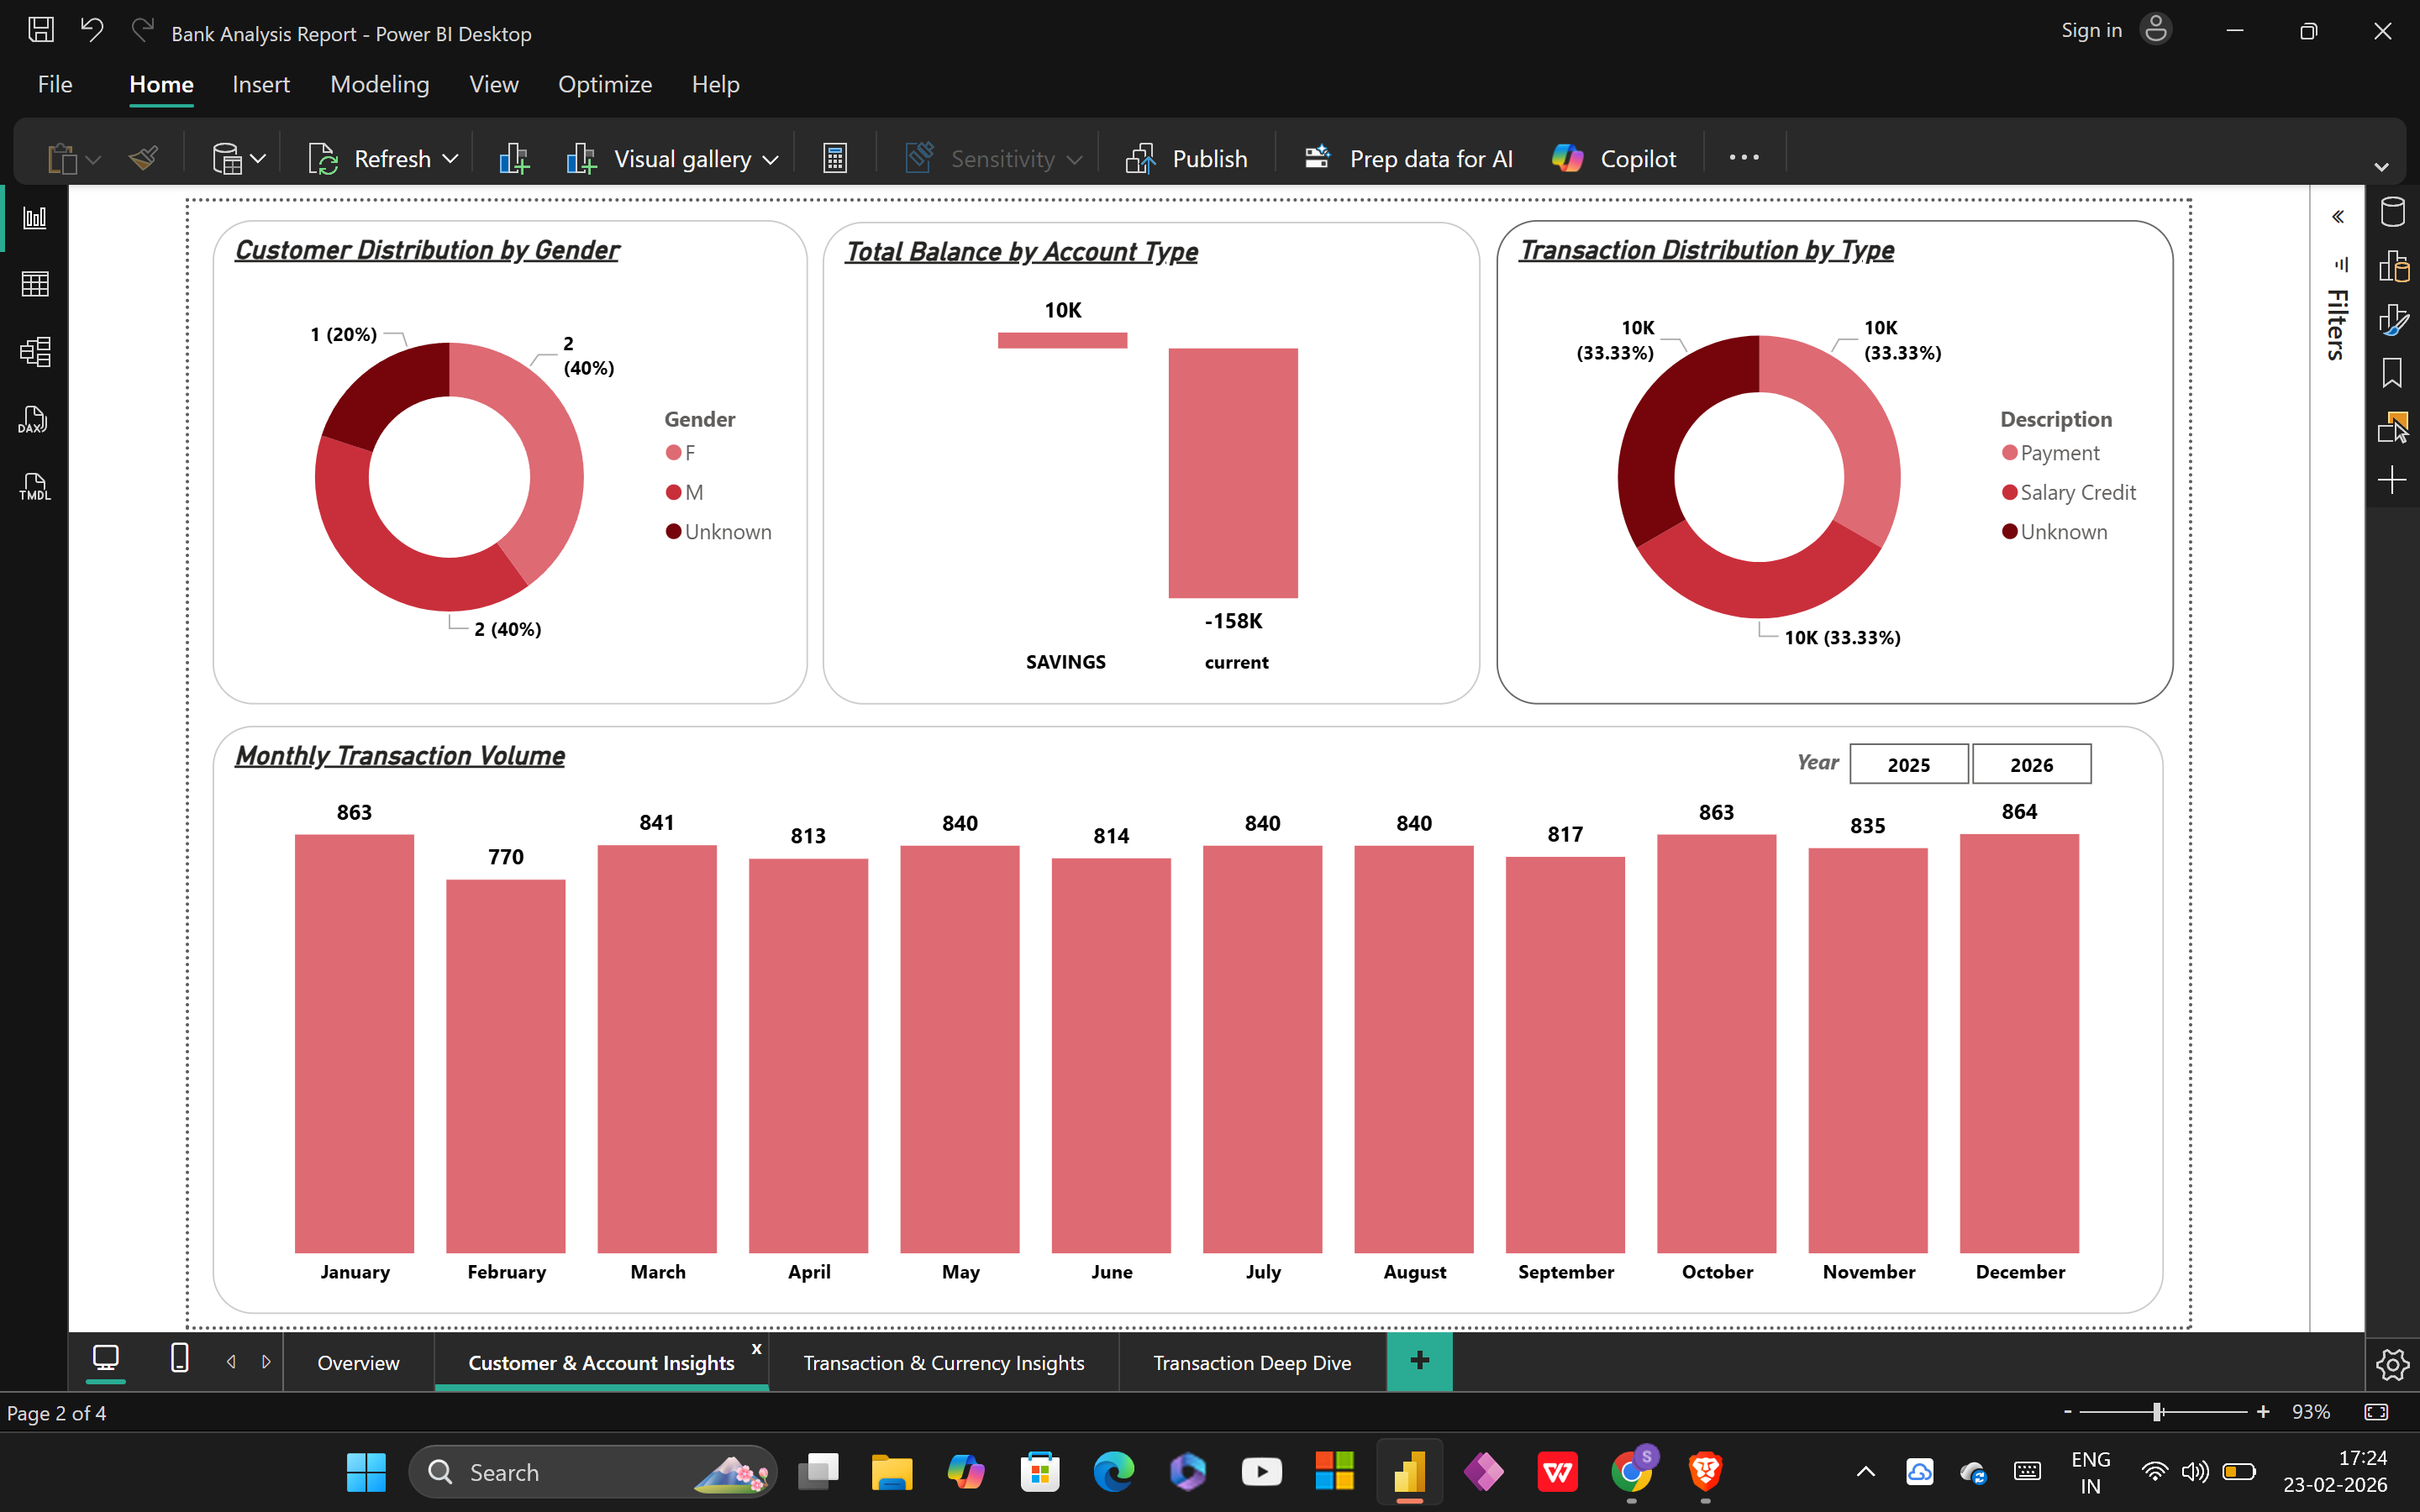

The dashboard page shown, as its layout file describes it:
{"tool":"powerbi","page":{"name":"Customer & Account Insights","canvas":[1280,720],"ordinal":1},"visuals":[{"type":"donutChart","title":"Customer Distribution by Gender","fields":{"Category":["Customers.Gender"],"Y":["Count(Customers.CustomerID)"]},"box":[15.6,12.2,381.1,310],"z":0},{"type":"columnChart","title":"Total Balance by Account Type","fields":{"Category":["Accounts.Type"],"Y":["Sum(Accounts.Balance)"]},"box":[405.6,13.3,421.1,308.9],"z":1000},{"type":"columnChart","title":"Monthly Transaction Volume","fields":{"Category":["DateTable.Month Name"],"Y":["CountNonNull(Transactions.TransactionID)"]},"box":[15,335,1248.3,376.7],"z":2000},{"type":"donutChart","title":"Transaction Distribution by Type","fields":{"Category":["Transactions.Description"],"Y":["CountNonNull(CombinedBankingDataset.TransactionID)"]},"box":[836.7,11.7,433.3,310],"z":3000},{"type":"slicer","fields":{"Values":["DateTable.Year"]},"box":[1036.7,340,205,40],"z":4000},{"type":"textbox","box":[1023.3,344.4,45.6,31.1],"z":5000}]}

Visuals, with their boxes on the page's 1280x720 design canvas (x1, y1, x2, y2). These are canvas units, not pixel positions in the 2420x1512 screenshot, which may show the page scaled, cropped or inside an application window:
"Customer Distribution by Gender" donutChart: 16, 12, 397, 322
"Total Balance by Account Type" columnChart: 406, 13, 827, 322
"Monthly Transaction Volume" columnChart: 15, 335, 1263, 712
"Transaction Distribution by Type" donutChart: 837, 12, 1270, 322
slicer - DateTable.Year: 1037, 340, 1242, 380
textbox: 1023, 344, 1069, 376
